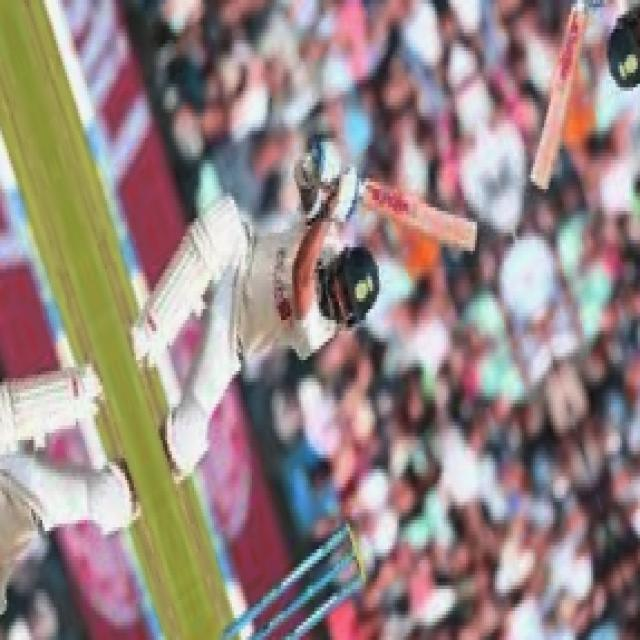bat: (356, 176, 482, 255)
